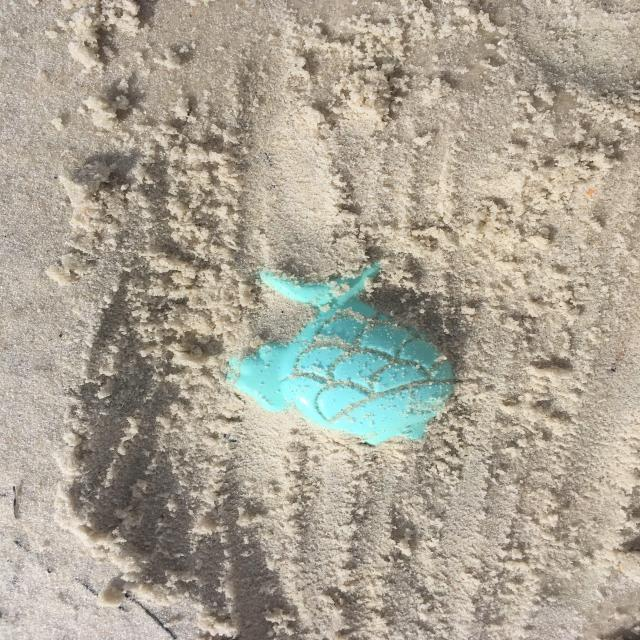litter: (348, 137, 597, 311)
